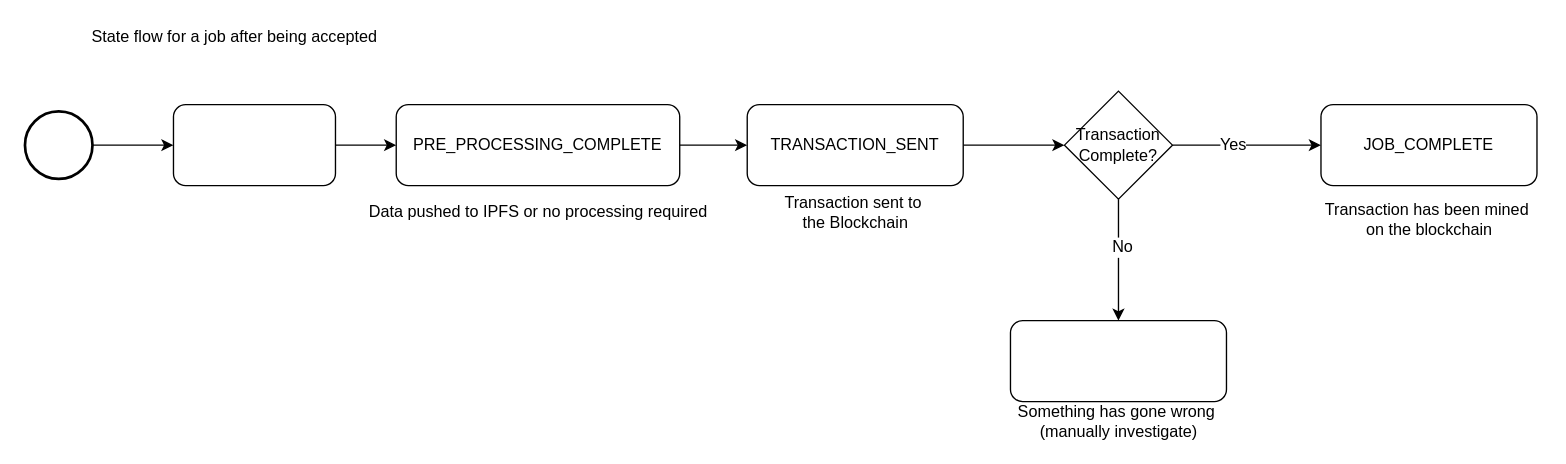
The diagram is 1566 pixels wide and 464 high, and some of its shapes have lost their labels. The shapes that lost their labels are listed below. From the top down, each one's centre as x and y in pixels, then its label:
At pixel 253 144: "ACCEPTED".
At pixel 1117 360: "TRANSACTION_FAILED".
